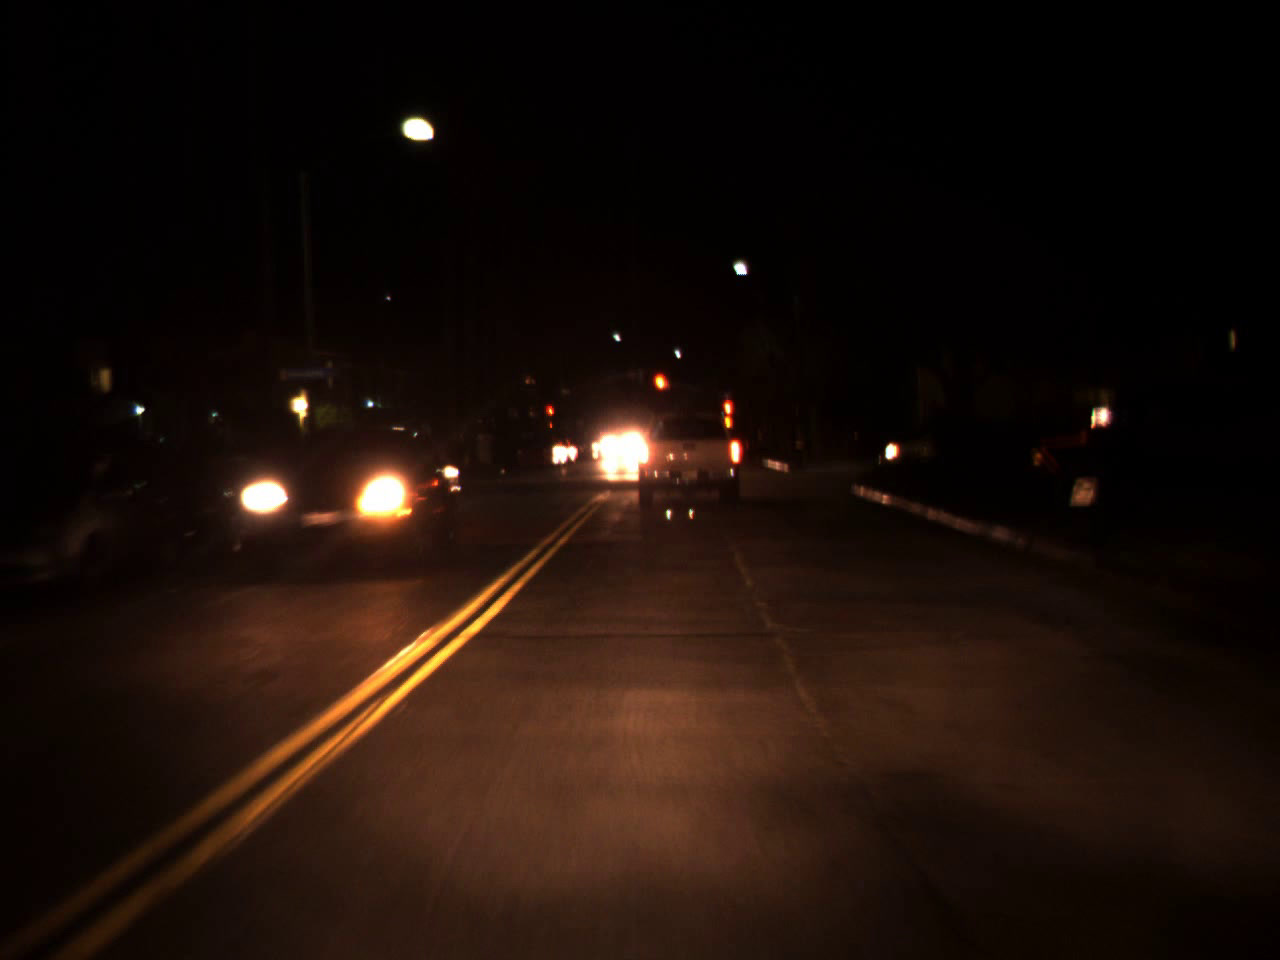stop: (651, 370, 670, 410), (724, 401, 733, 425), (545, 404, 555, 425)
